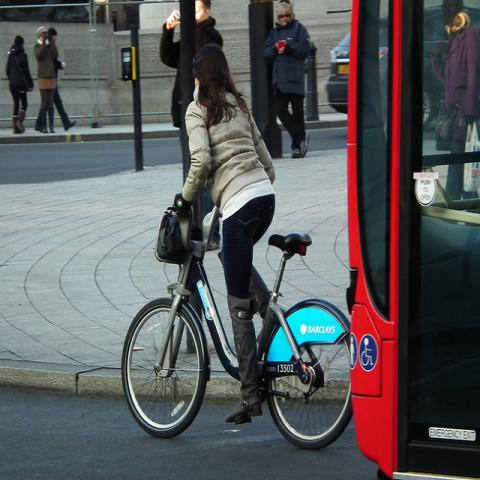bus: (346, 1, 479, 479)
car: (324, 3, 479, 142)
